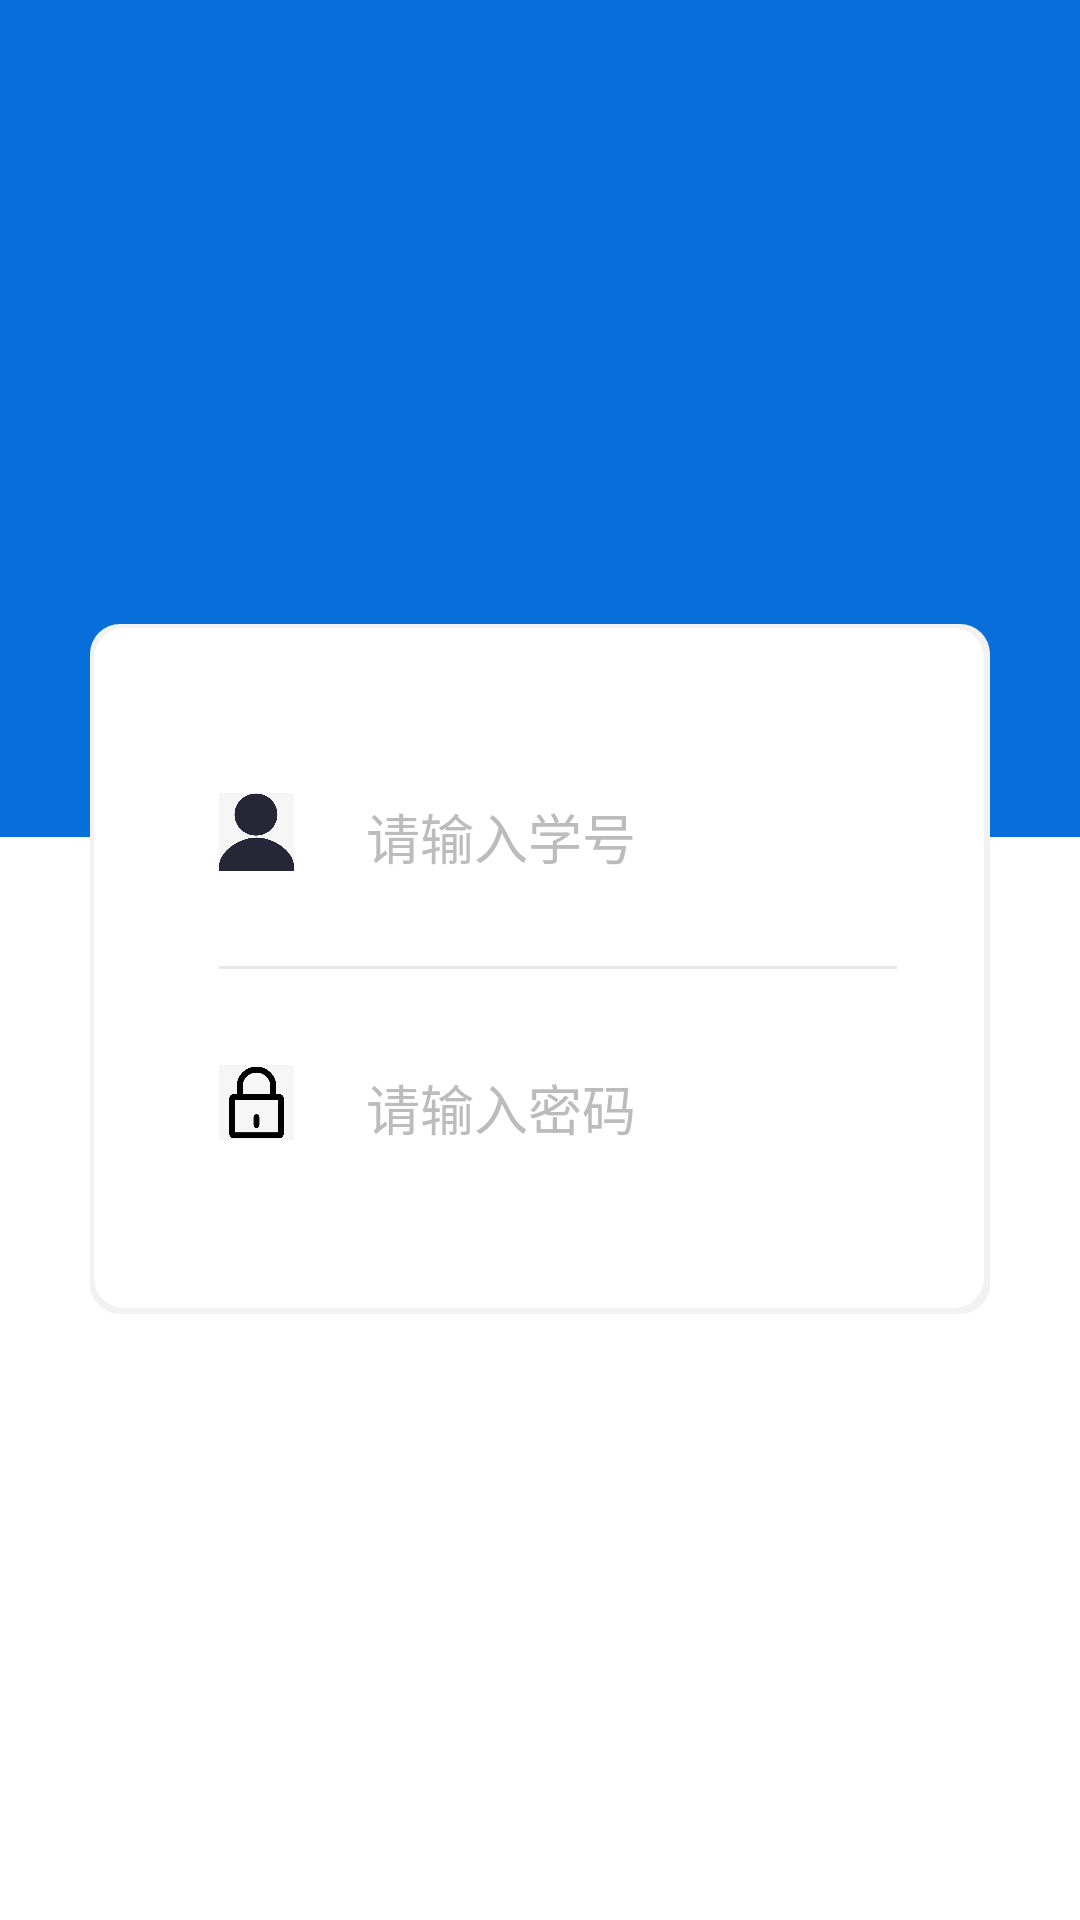

Screen size 1080x1920. Icon name, then its box in pixels as [x1,y1,x2,y2]:
login loge: [219,793,294,871]
pwd loge: [219,1065,294,1140]
